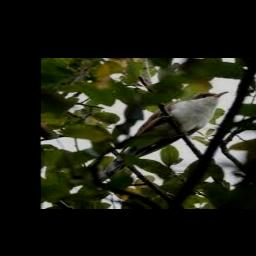Cuckoo: (96, 91, 228, 181)
